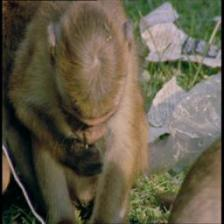monkey: (45, 14, 139, 153)
